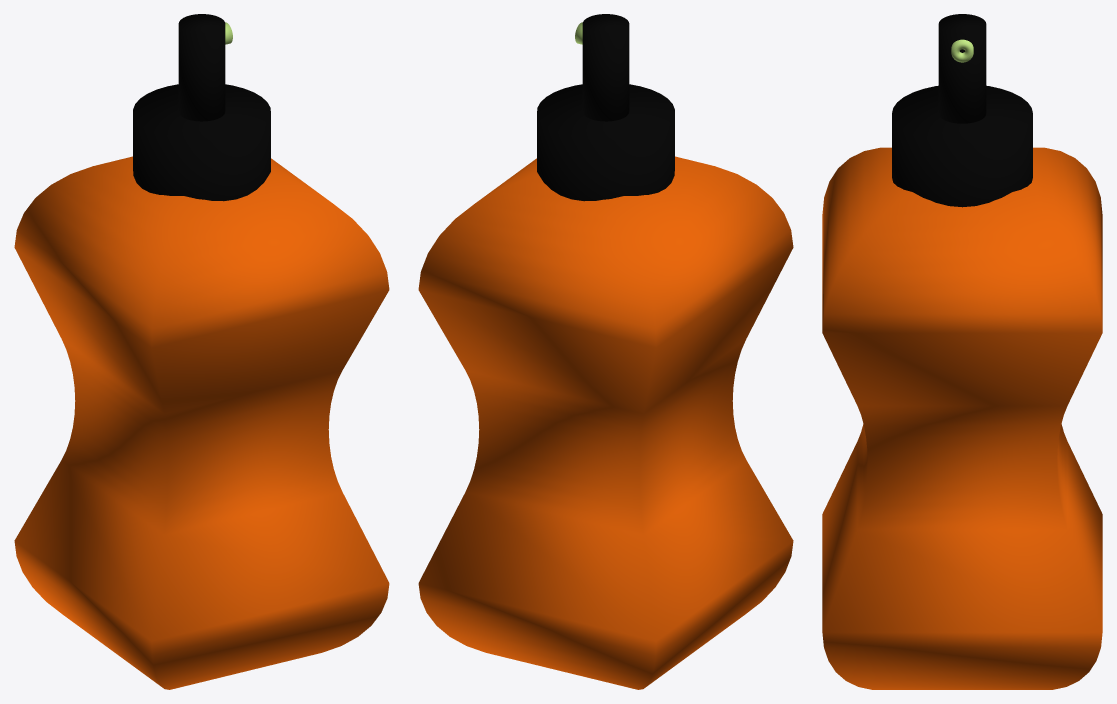
File: Orange Perfume.fbx
The picture shows the model from 3 angles, left to right: view 1: azimuth 30°, elevation 25°; view 2: azimuth 150°, elevation 25°; view 3: azimuth 270°, elevation 25°; orthographic projection. The views are drawn at different scales.
Parts seen in each view (by area): view 1: Orange Cologne; view 2: Orange Cologne; view 3: Orange Cologne.
Boxes of the visible parts, x1=… form: Orange Cologne: x1=14, y1=14, x2=389, y2=689; Orange Cologne: x1=418, y1=14, x2=793, y2=689; Orange Cologne: x1=822, y1=14, x2=1102, y2=689.
Size of the model in its own units: 200 by 504 by 200.
